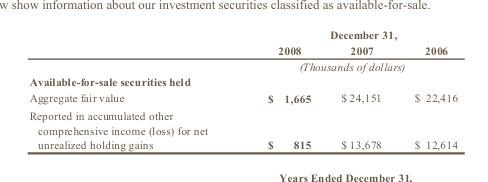table: (28, 28, 457, 150)
table column: (28, 28, 237, 150), (237, 28, 325, 150), (325, 28, 397, 150), (397, 28, 457, 150)
table column header: (28, 28, 457, 73)
table projected row header: (28, 73, 457, 89)
table row: (28, 106, 457, 150), (28, 89, 457, 106), (28, 42, 457, 58), (28, 73, 457, 89), (28, 58, 457, 73), (28, 28, 457, 42)
table spanning cell: (237, 58, 457, 73), (237, 28, 457, 42)
